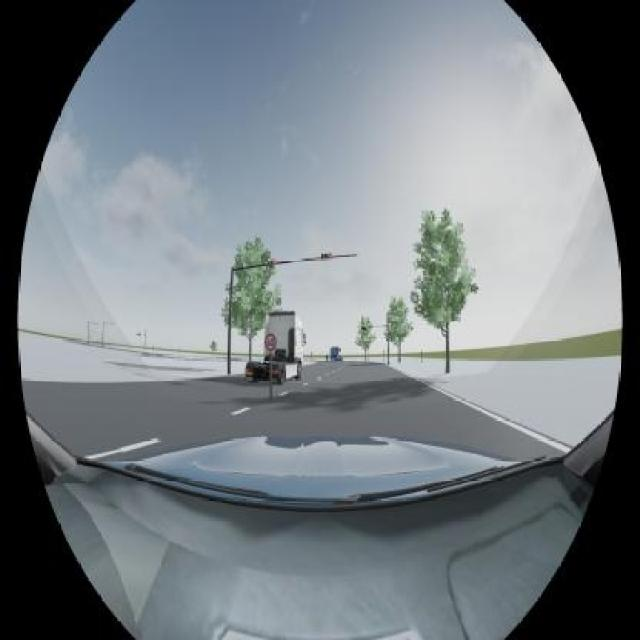forb_speed_over_60: (264, 333, 276, 350)
